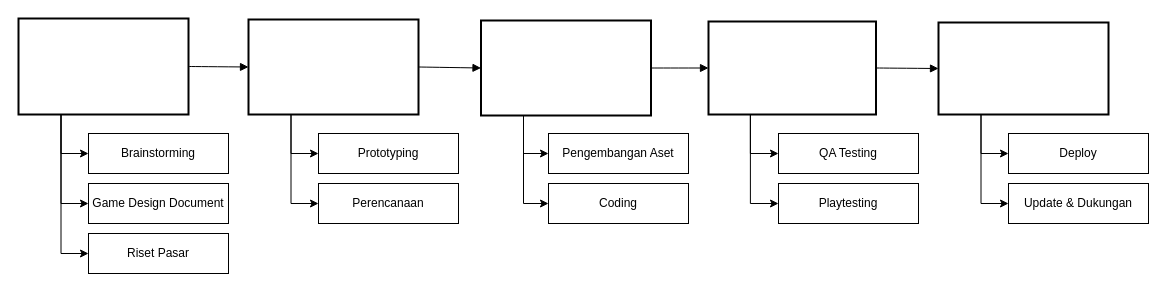
The diagram is 1166 pixels wide and 291 high, and some of its shapes have lost their labels. Each missing label, with the centre of its shape:
"Creation" belongs at [103,66].
"Launch & Post-Launch" belongs at [1023,68].
"Pre-Production" belongs at [333,66].
"Production" belongs at [566,67].
"Testing & Iterasi" belongs at [791,67].
